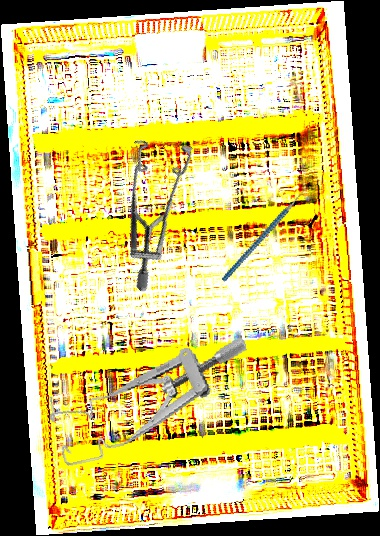Chopper: (199, 178, 330, 283)
Speculum: (63, 116, 238, 294), (41, 334, 264, 469)
